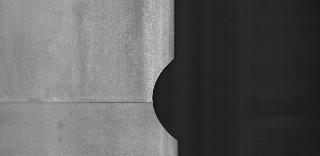welding line: (2, 98, 158, 110)
